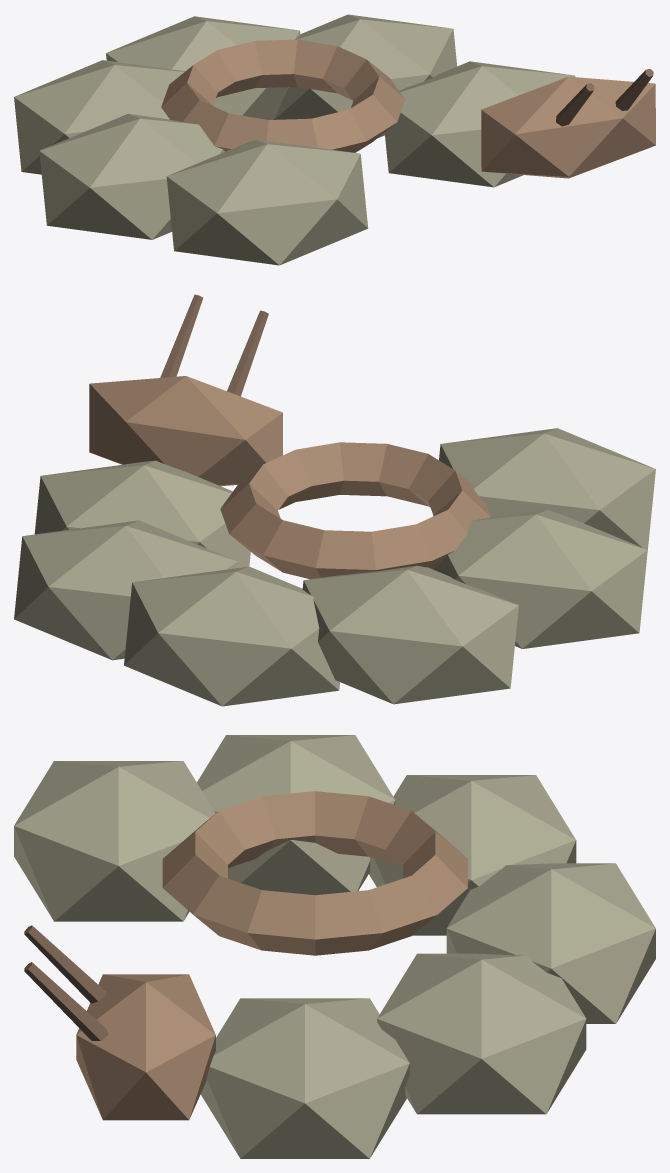
The model's file is map-exclusive-v3__village_10.glb.
3 renders of one model, top to bottom at view 1: azimuth 30°, elevation 25°; view 2: azimuth 150°, elevation 25°; view 3: azimuth 270°, elevation 25°, orthographic. The views are drawn at different scales.
Parts seen in each view (by area): view 1: village_10; view 2: village_10; view 3: village_10.
Boxes of the visible parts, x1,y1,x2,y2 form: village_10: (14,14,655,265); village_10: (14,294,655,706); village_10: (14,735,655,1158).
Size of the model in its own units: 1.59 by 0.4871 by 1.25.
